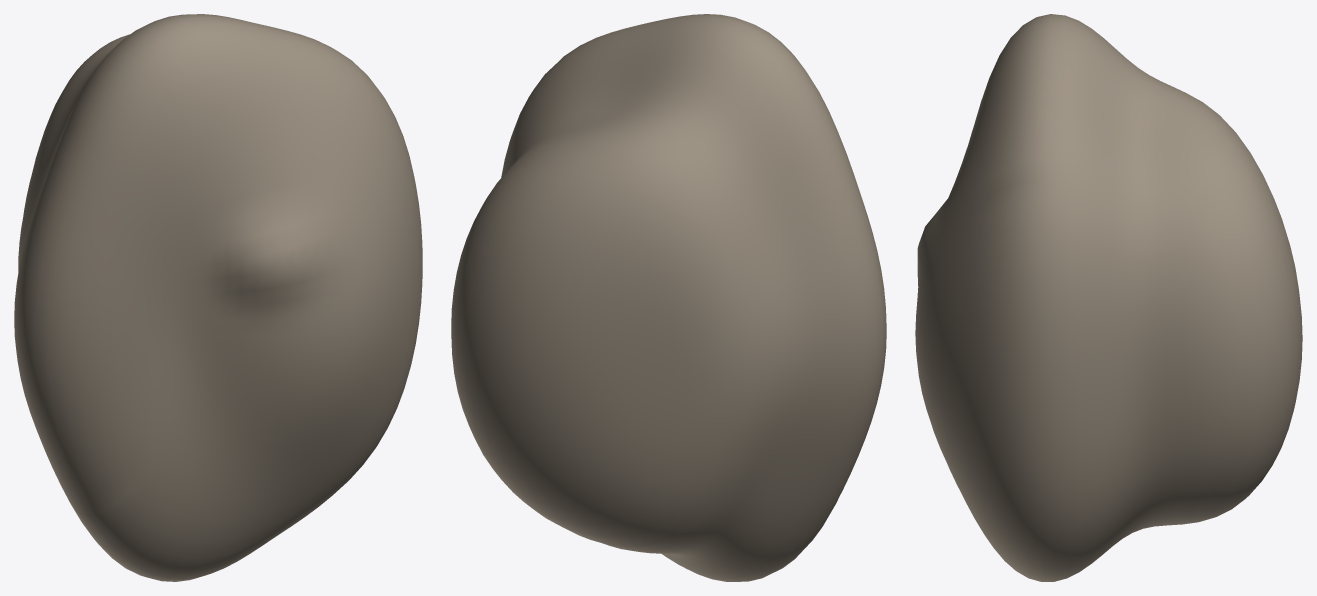
Rendered from mock-reconstruction-sculpted.glb.
3 views of the same model, side by side, from view 1: azimuth 30°, elevation 25°; view 2: azimuth 150°, elevation 25°; view 3: azimuth 270°, elevation 25° (orthographic). The views are drawn at different scales.
Visible parts, largest first — view 1: MOCK Reconstruction mock-1; view 2: MOCK Reconstruction mock-1; view 3: MOCK Reconstruction mock-1.
Part boxes in pixels (x1,y1,x2,y2): MOCK Reconstruction mock-1: (14, 14, 422, 581); MOCK Reconstruction mock-1: (451, 14, 886, 581); MOCK Reconstruction mock-1: (915, 14, 1302, 581).
Bounding box in the file's own units: 1.7 × 2.37 × 1.52.
